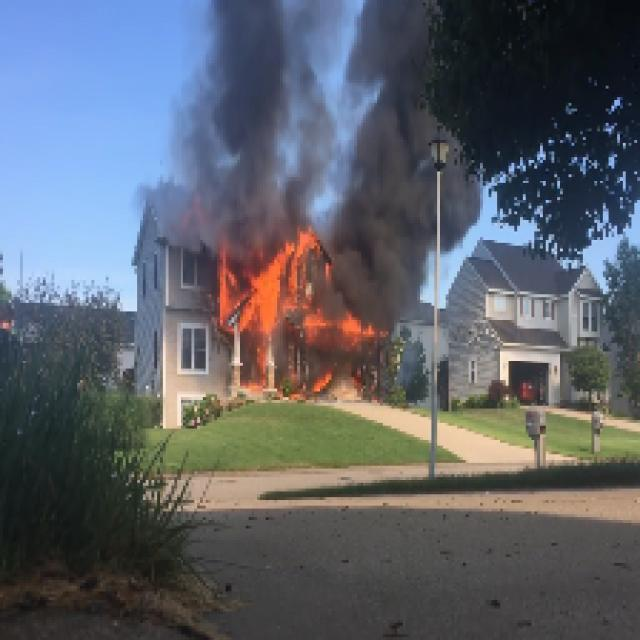Fire: (214, 231, 337, 340)
Smoke: (148, 3, 343, 223), (343, 3, 431, 306)
